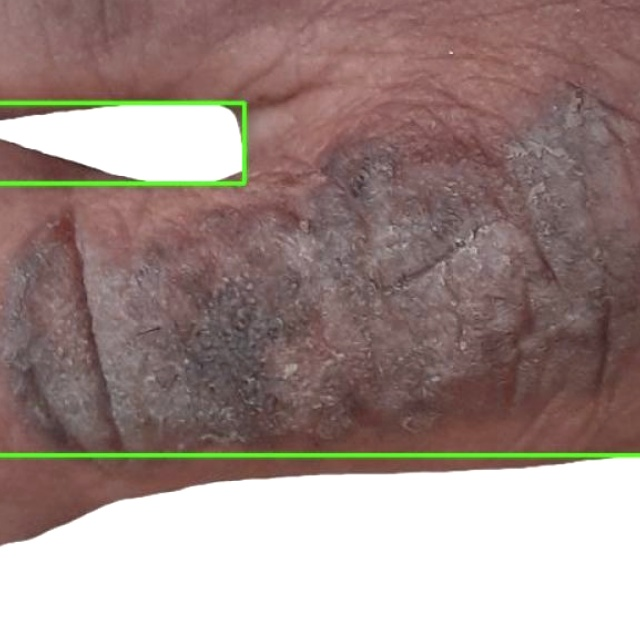Contact Dermatitis: (0, 455, 639, 639), (0, 103, 244, 183)
